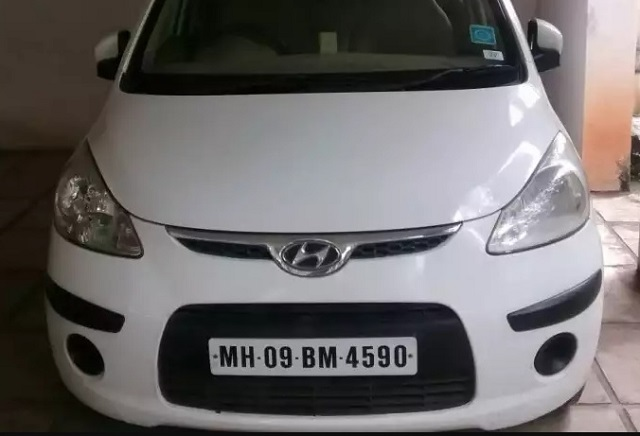licenseplate: (206, 335, 424, 379)
